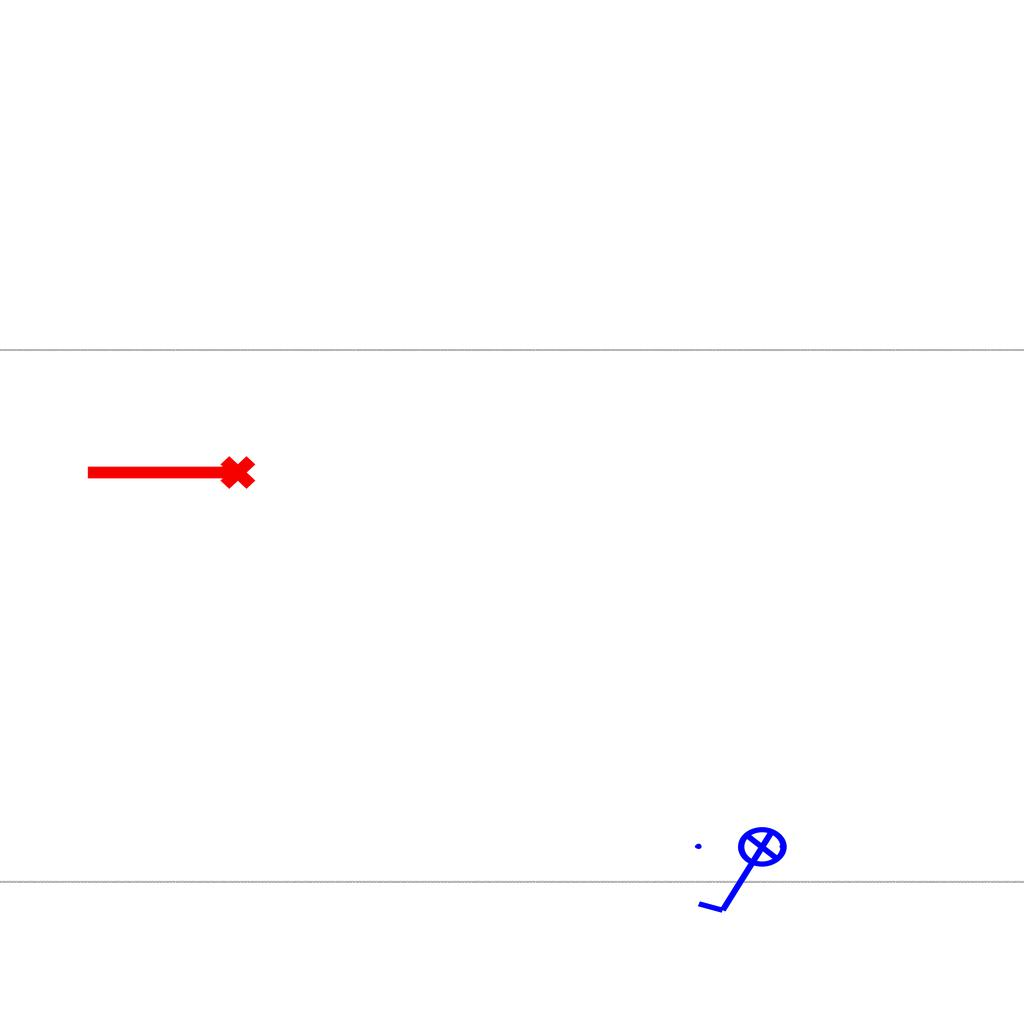ASR_Ansaugoeffnung: (82, 452, 258, 498)
Ausschalter_beleuchtet: (689, 825, 801, 921)
